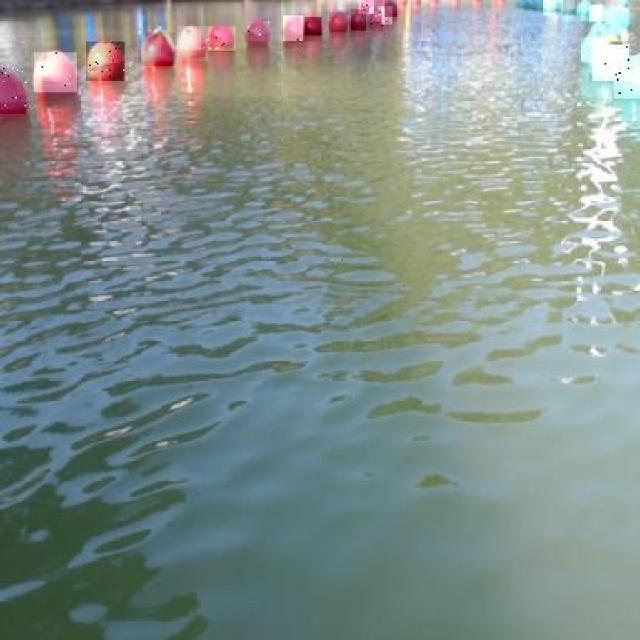green_ball: (592, 45, 630, 80), (580, 37, 611, 68), (592, 20, 627, 43), (610, 4, 632, 29), (599, 7, 617, 27), (577, 0, 592, 22), (544, 0, 564, 15), (559, 1, 577, 17), (590, 4, 603, 24), (534, 0, 549, 14), (524, 0, 537, 12), (516, 0, 526, 10)
red_ball: (33, 52, 78, 92), (0, 66, 28, 116), (88, 41, 123, 80), (142, 29, 174, 67), (176, 25, 204, 57), (246, 17, 270, 45), (211, 24, 234, 48), (284, 15, 304, 40), (330, 13, 347, 31), (351, 11, 367, 29), (376, 6, 392, 24), (305, 17, 321, 34), (371, 10, 386, 28), (359, 0, 375, 14), (386, 0, 398, 17), (492, 0, 505, 8), (430, 0, 440, 7), (412, 0, 422, 7), (470, 0, 478, 7), (400, 1, 408, 8), (449, 0, 458, 6)
